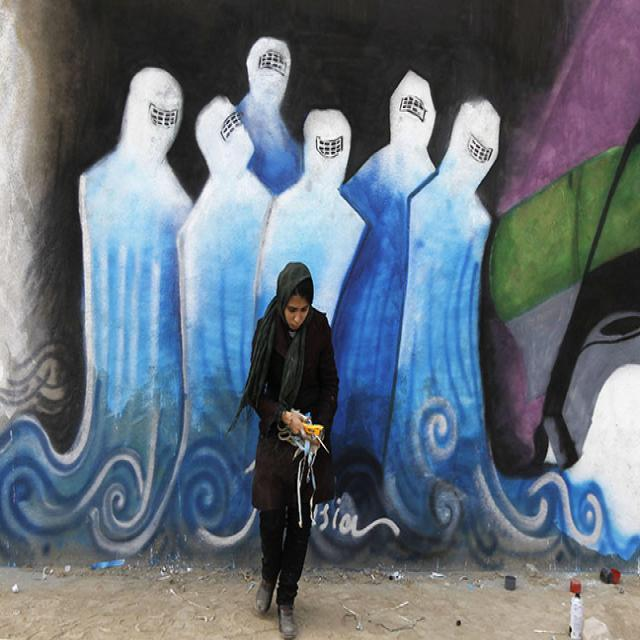-: (0, 31, 640, 565)
